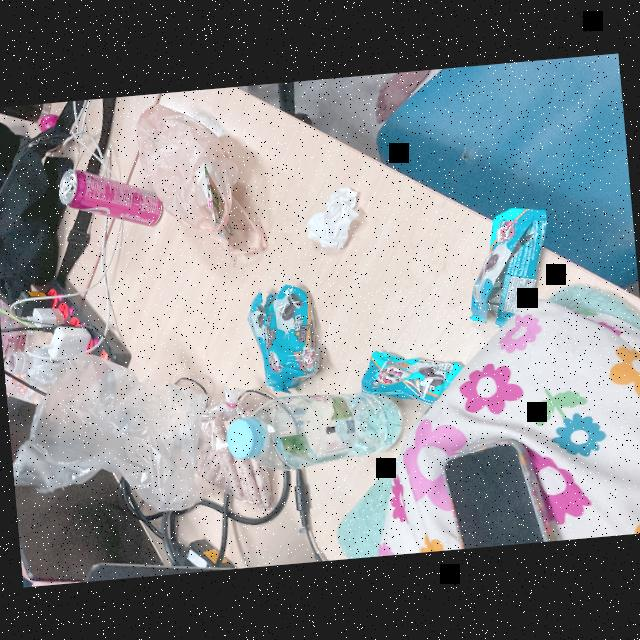can: (49, 160, 168, 238)
plastic_bag: (2, 344, 224, 527), (126, 92, 275, 270)
plastic_bottle: (220, 384, 412, 473), (2, 342, 72, 390)
plastic_bottle_cap: (226, 416, 264, 458)
scrap_paper: (298, 185, 370, 258)
snack_bag: (456, 198, 560, 342), (189, 379, 282, 513), (242, 278, 328, 397), (348, 338, 467, 413)
